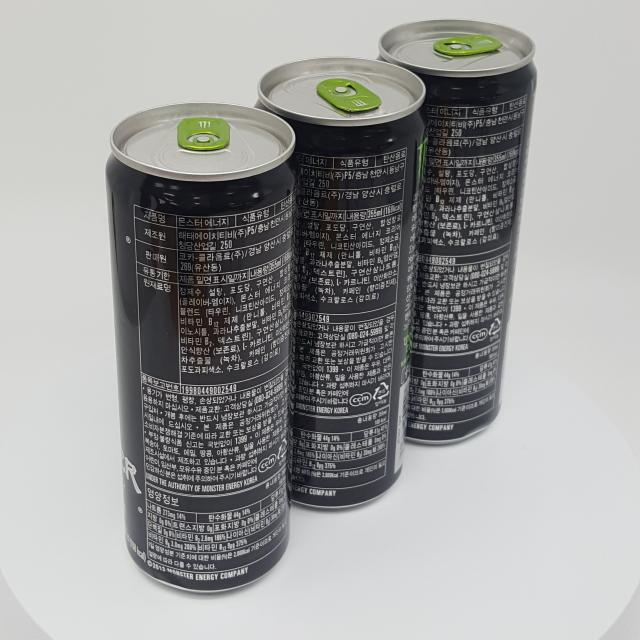--------355ML: (105, 101, 301, 593), (253, 56, 430, 509), (375, 18, 537, 444)
